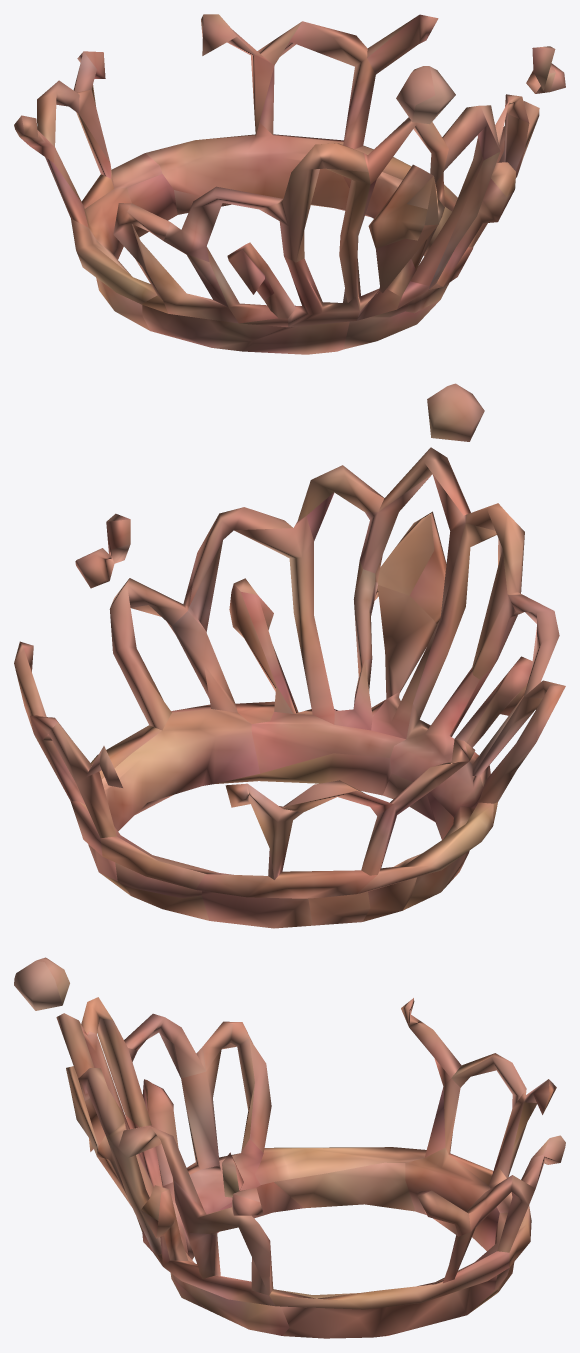
3 views of the same model, one above another, from view 1: azimuth 30°, elevation 25°; view 2: azimuth 150°, elevation 25°; view 3: azimuth 270°, elevation 25° (orthographic). The views are drawn at different scales.
Visible parts, largest first — view 1: Pink-Crown-17; view 2: Pink-Crown-17; view 3: Pink-Crown-17.
Part boxes in pixels (box(x1,y1,x2,y2)): Pink-Crown-17: box(14, 14, 565, 354); Pink-Crown-17: box(14, 383, 565, 928); Pink-Crown-17: box(14, 957, 565, 1338).
Bounding box in the file's own units: 0.2439 × 0.1671 × 0.2671.
Materials: 1 (1 with a texture image).
